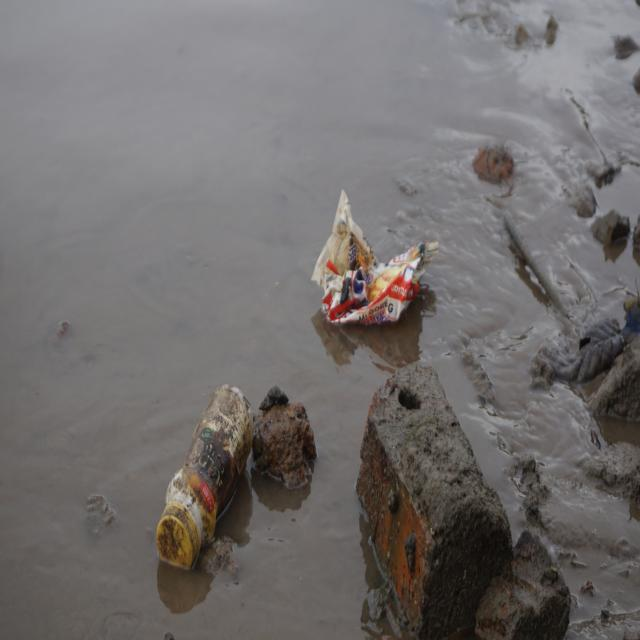Botol Plastik: (156, 381, 256, 575)
Bungkus Makanan: (311, 187, 438, 338)
